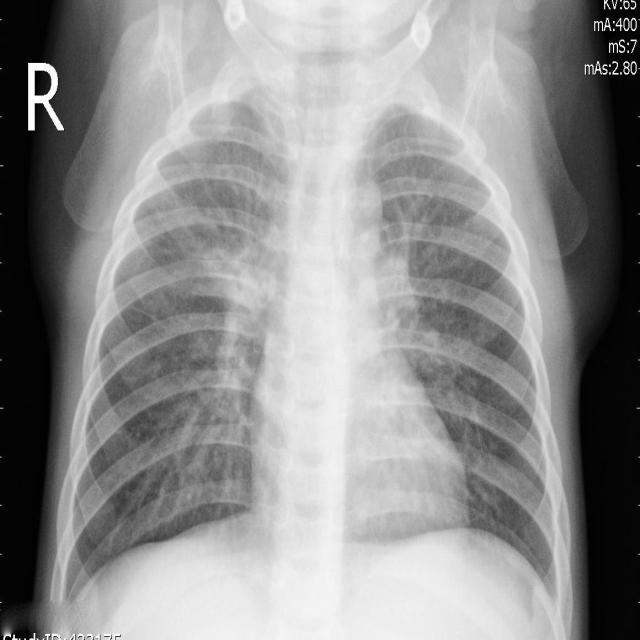high-pneumonia: (168, 66, 291, 176)
low-pneumonia: (161, 174, 291, 493), (381, 187, 480, 396), (350, 92, 469, 199)
